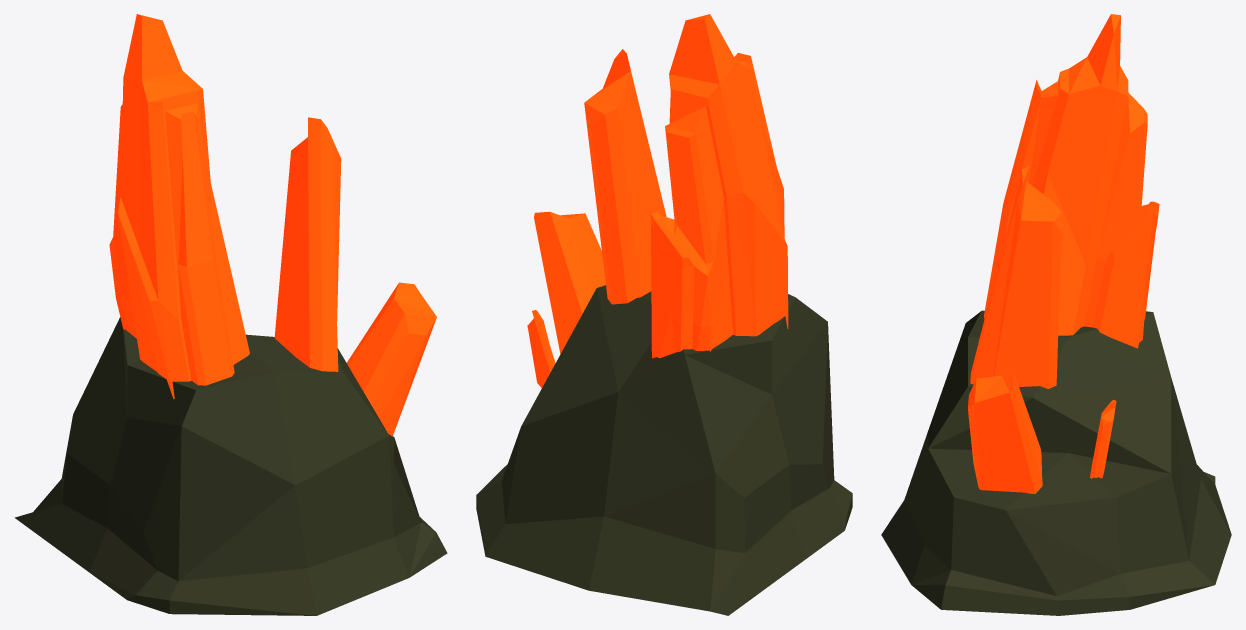
File: SM_Relief_Element_02.glb
The picture shows the model from 3 angles, left to right: view 1: azimuth 30°, elevation 25°; view 2: azimuth 150°, elevation 25°; view 3: azimuth 270°, elevation 25°; orthographic projection. The views are drawn at different scales.
Parts seen in each view (by area): view 1: SM_Relief_Element_02; view 2: SM_Relief_Element_02; view 3: SM_Relief_Element_02.
Part boxes in pixels (x1,y1,x2,y2): SM_Relief_Element_02: [15, 14, 447, 615]; SM_Relief_Element_02: [476, 14, 852, 615]; SM_Relief_Element_02: [881, 14, 1231, 615].
Bounding box in the file's own units: 0.6236 × 1.03 × 0.6624.
2 materials, 1 textured.
